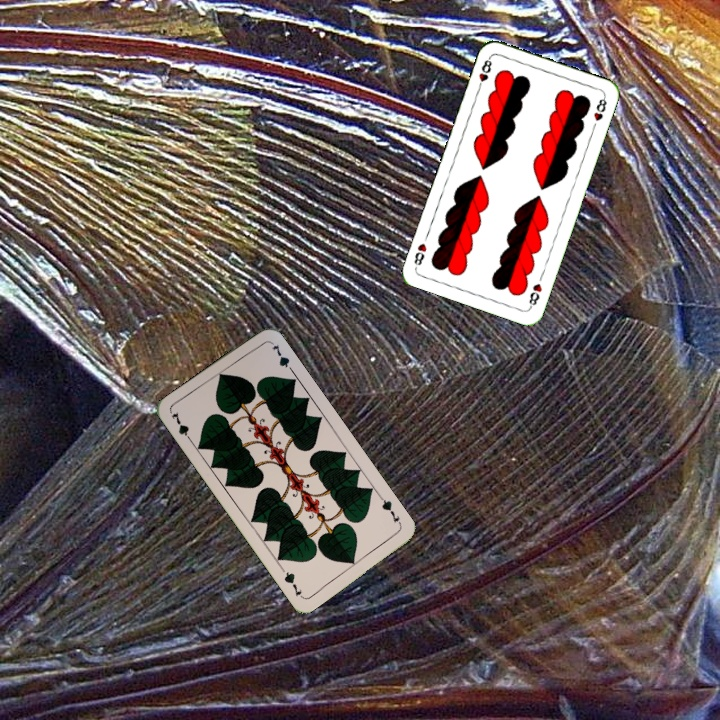G7: (167, 408, 195, 445), (376, 493, 404, 529)
H8: (474, 53, 494, 93), (525, 279, 545, 311)
